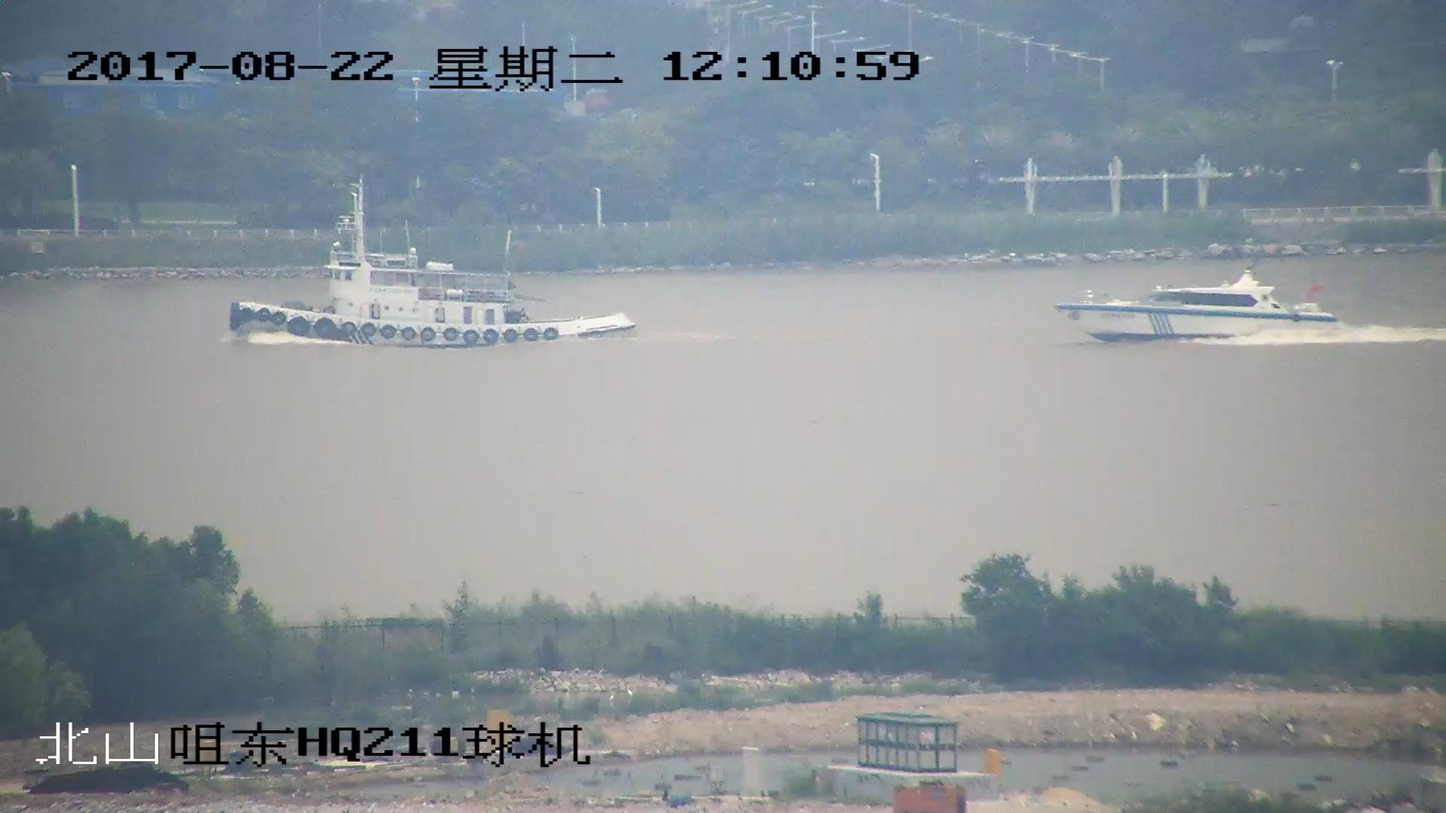passenger ship: (227, 181, 636, 342), (1058, 274, 1335, 348)
